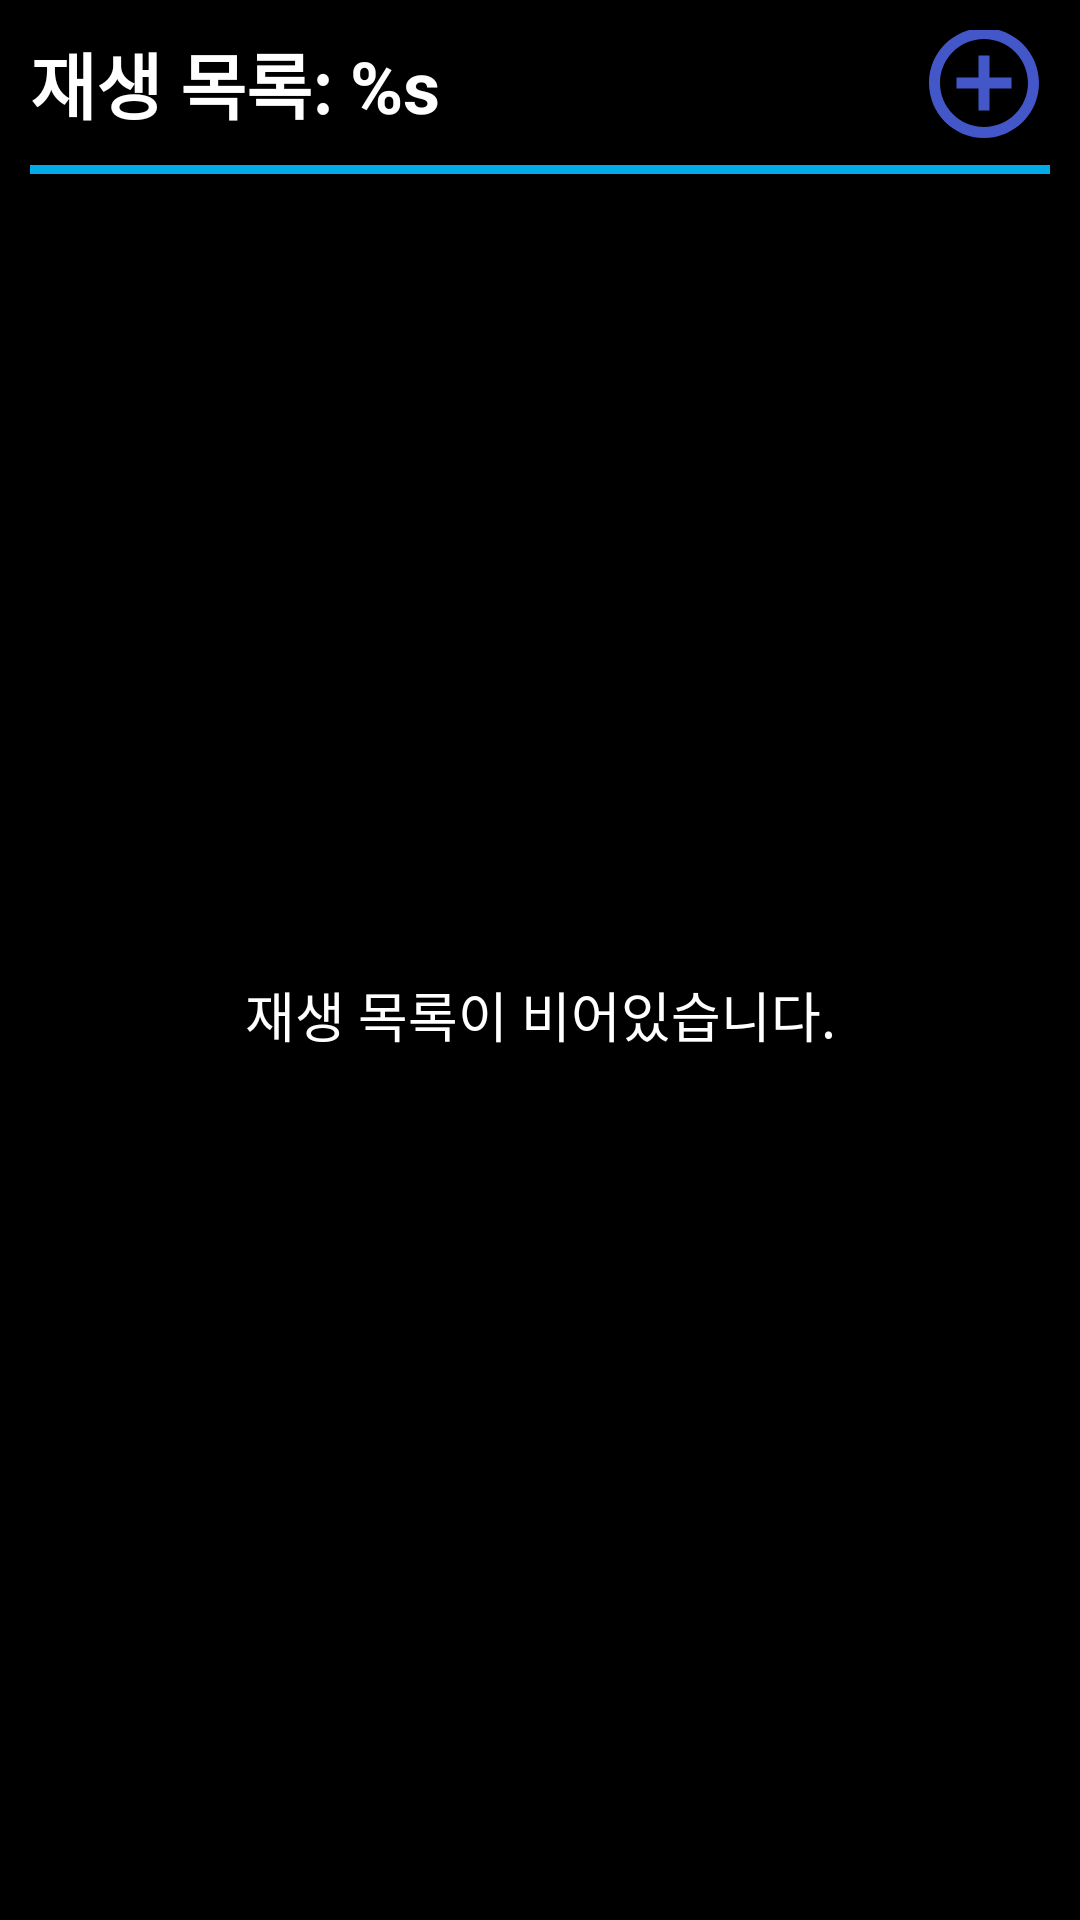

Named icons in this screenshot (1080x1920) and their bounding boxes, (x1, y1, x2, y2):
add: (929, 30, 1039, 138)
